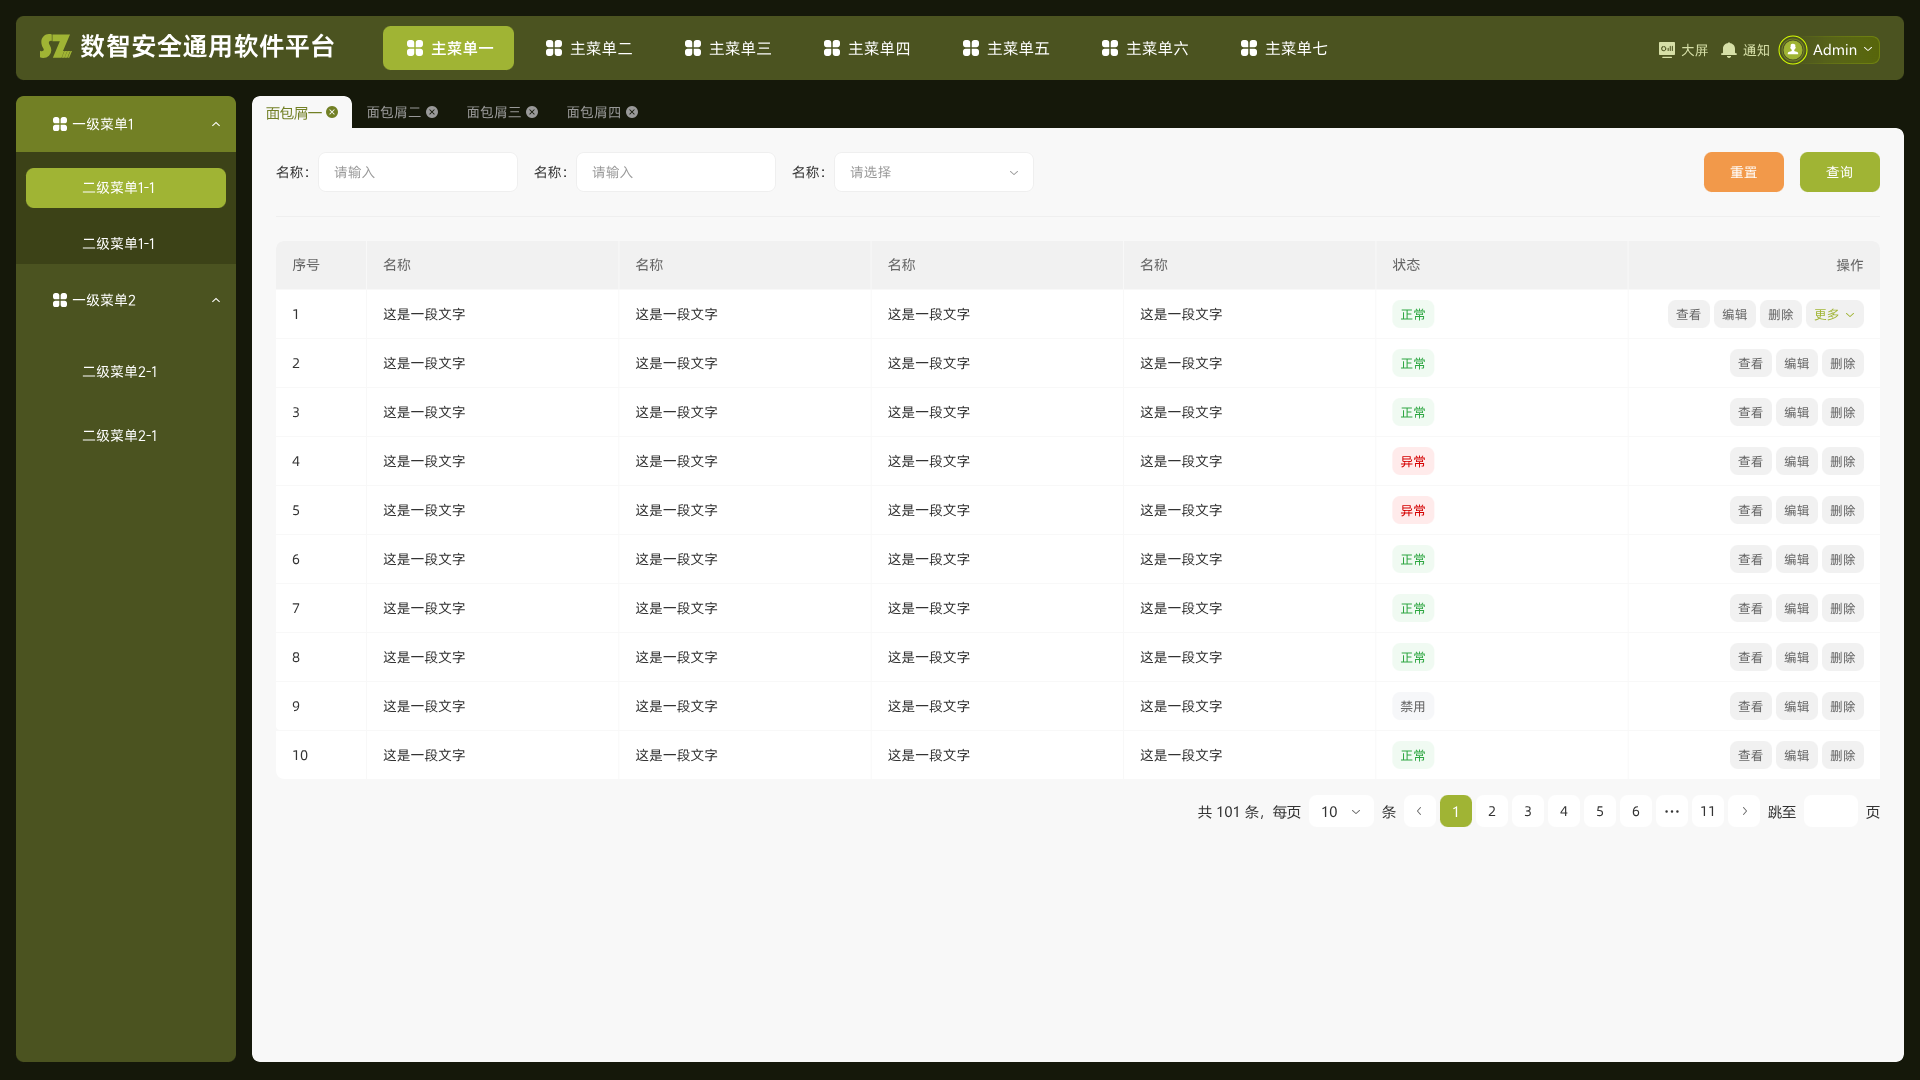label-input-input: (315, 150, 520, 197), (574, 149, 781, 195), (833, 150, 1041, 195)
label-input-label: (792, 159, 827, 183), (535, 162, 570, 184), (275, 160, 310, 181)
query-btn: (1793, 146, 1889, 204)
reset-btn: (1697, 146, 1789, 202)
table: (270, 239, 1893, 845)
